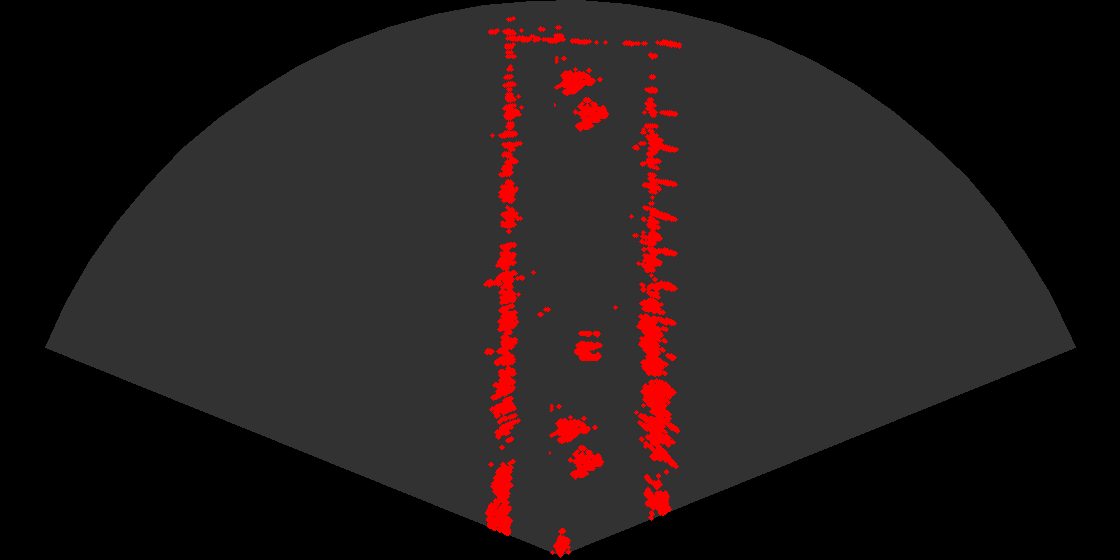ball: (554, 323, 614, 364)
cage: (554, 56, 617, 140), (549, 404, 612, 488)
